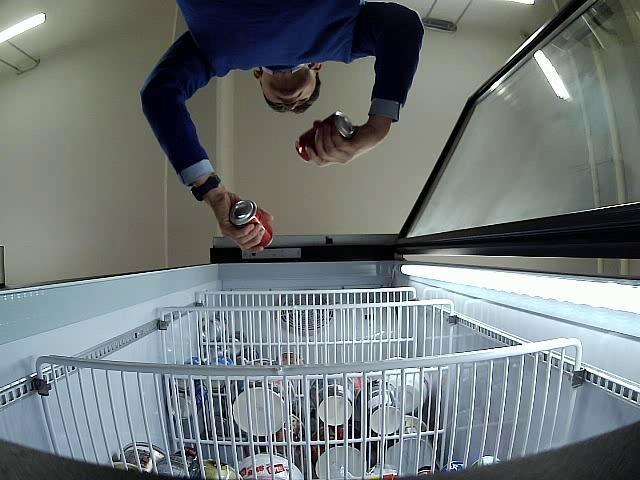11_cocaColaZero: (294, 111, 354, 163), (229, 199, 274, 248)
